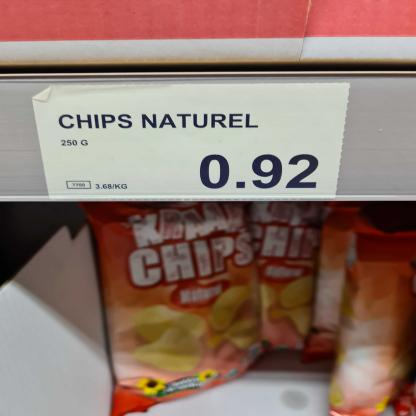prtg: (31, 83, 352, 201)
